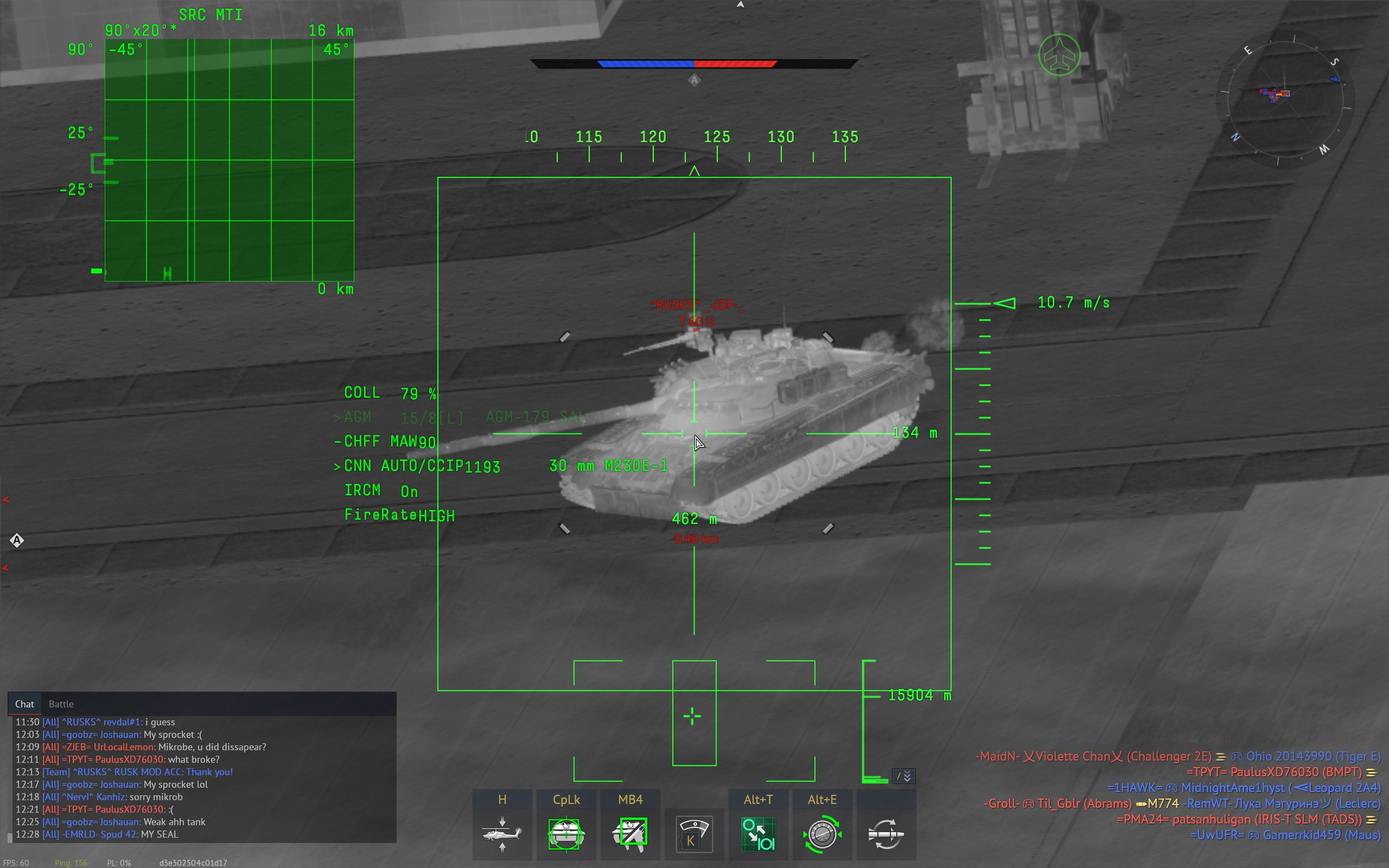t-80u: (405, 312, 932, 527)
